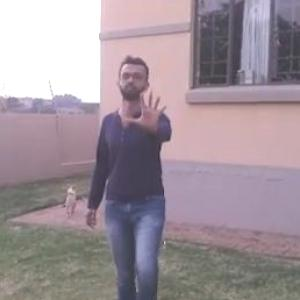follow_hand: (123, 82, 171, 135)
